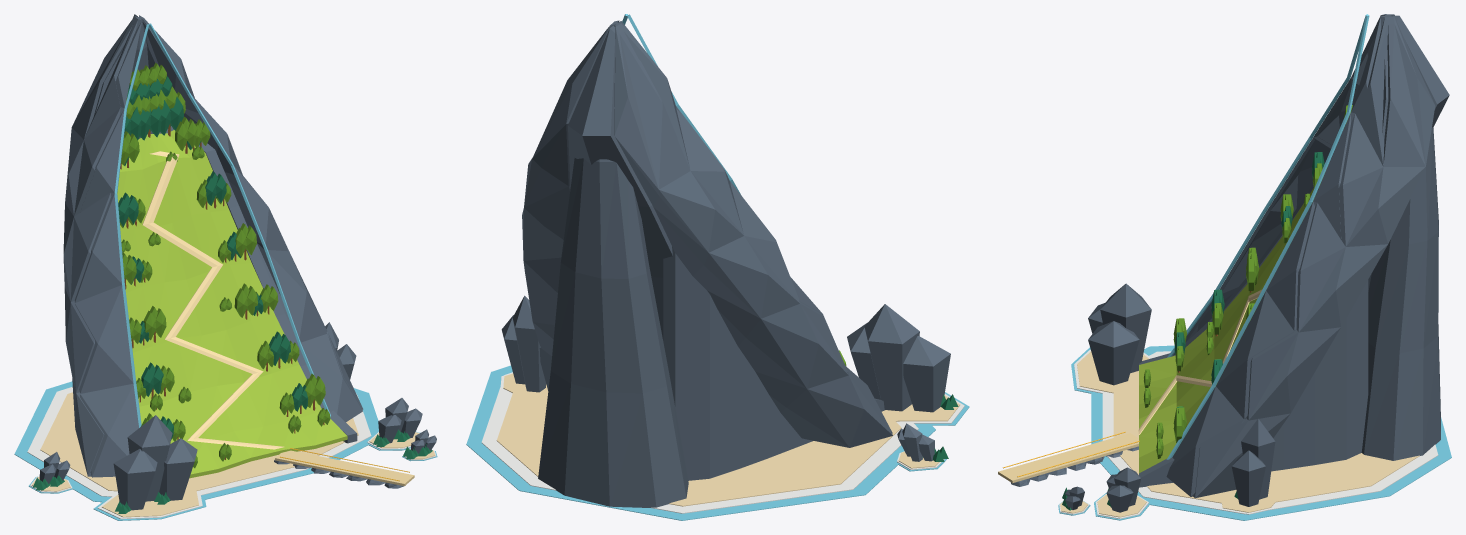
Rendered from decoration.glb.
3 views of the same model, side by side, from view 1: azimuth 30°, elevation 25°; view 2: azimuth 150°, elevation 25°; view 3: azimuth 270°, elevation 25° (orthographic). The views are drawn at different scales.
Parts seen in each view (by area): view 1: 23_R3A_Aris_WideFoldedMountainAndIslets, 23_R3A_Aris_CoastalPaperBandsAndLongBridge, 23_R3A_Aris_LayeredLeafWoodland; view 2: 23_R3A_Aris_WideFoldedMountainAndIslets, 23_R3A_Aris_CoastalPaperBandsAndLongBridge; view 3: 23_R3A_Aris_WideFoldedMountainAndIslets, 23_R3A_Aris_CoastalPaperBandsAndLongBridge, 23_R3A_Aris_LayeredLeafWoodland.
Part boxes in pixels (x1=…): 23_R3A_Aris_WideFoldedMountainAndIslets: x1=39, y1=14, x2=436, y2=510; 23_R3A_Aris_CoastalPaperBandsAndLongBridge: x1=14, y1=151, x2=437, y2=520; 23_R3A_Aris_LayeredLeafWoodland: x1=32, y1=62, x2=432, y2=513; 23_R3A_Aris_WideFoldedMountainAndIslets: x1=501, y1=14, x2=950, y2=507; 23_R3A_Aris_CoastalPaperBandsAndLongBridge: x1=466, y1=365, x2=969, y2=520; 23_R3A_Aris_WideFoldedMountainAndIslets: x1=1011, y1=14, x2=1449, y2=512; 23_R3A_Aris_CoastalPaperBandsAndLongBridge: x1=998, y1=287, x2=1451, y2=520; 23_R3A_Aris_LayeredLeafWoodland: x1=1062, y1=105, x2=1352, y2=510.
Bounding box in the file's own units: 1.45 × 1.46 × 1.45.
